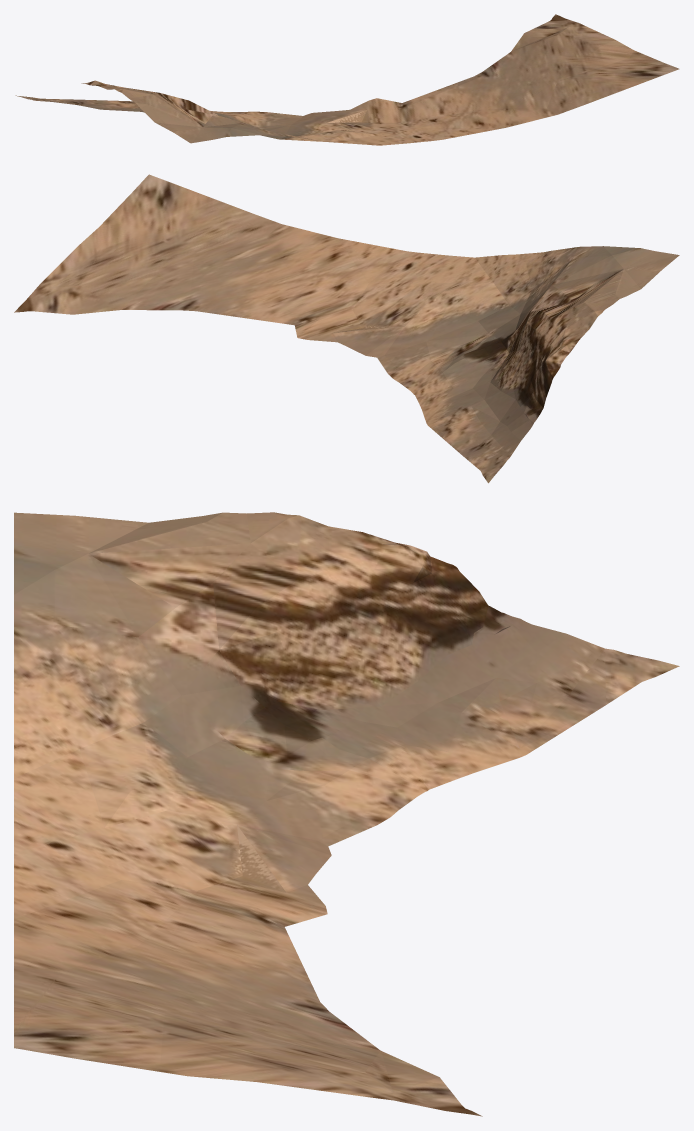
The picture shows the model from 3 angles, top to bottom: view 1: azimuth 30°, elevation 25°; view 2: azimuth 150°, elevation 25°; view 3: azimuth 270°, elevation 25°; orthographic projection. The views are drawn at different scales.
Size of the model in its own units: 2.09 by 0.3327 by 1.31.
1 material, 1 textured.
